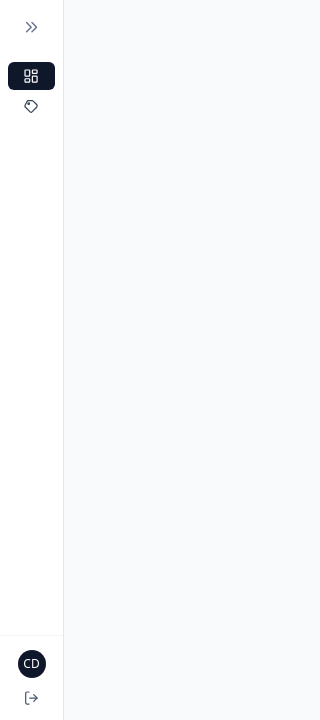
Test: Sidebar › déplie de nouveau, et l’écrit aussi
Step 1. Click the button named "Déplier le menu" → (32, 27), box left=16, top=12, right=47, bottom=42
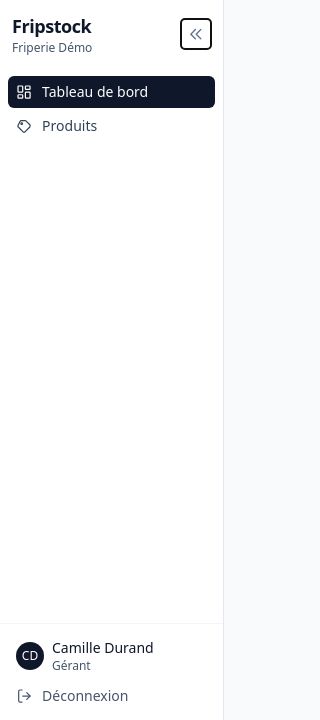
Expected: the text "Produits" is shown, left=42, top=116, right=97, bottom=136
